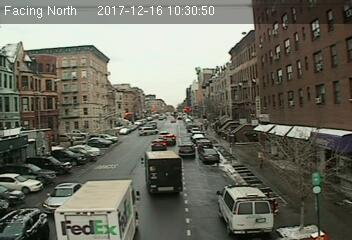car: (43, 180, 81, 208), (200, 147, 220, 165), (178, 143, 197, 159), (150, 138, 167, 151)
police: (214, 180, 276, 237)
truck: (55, 179, 142, 240)
ups: (141, 151, 184, 194)
